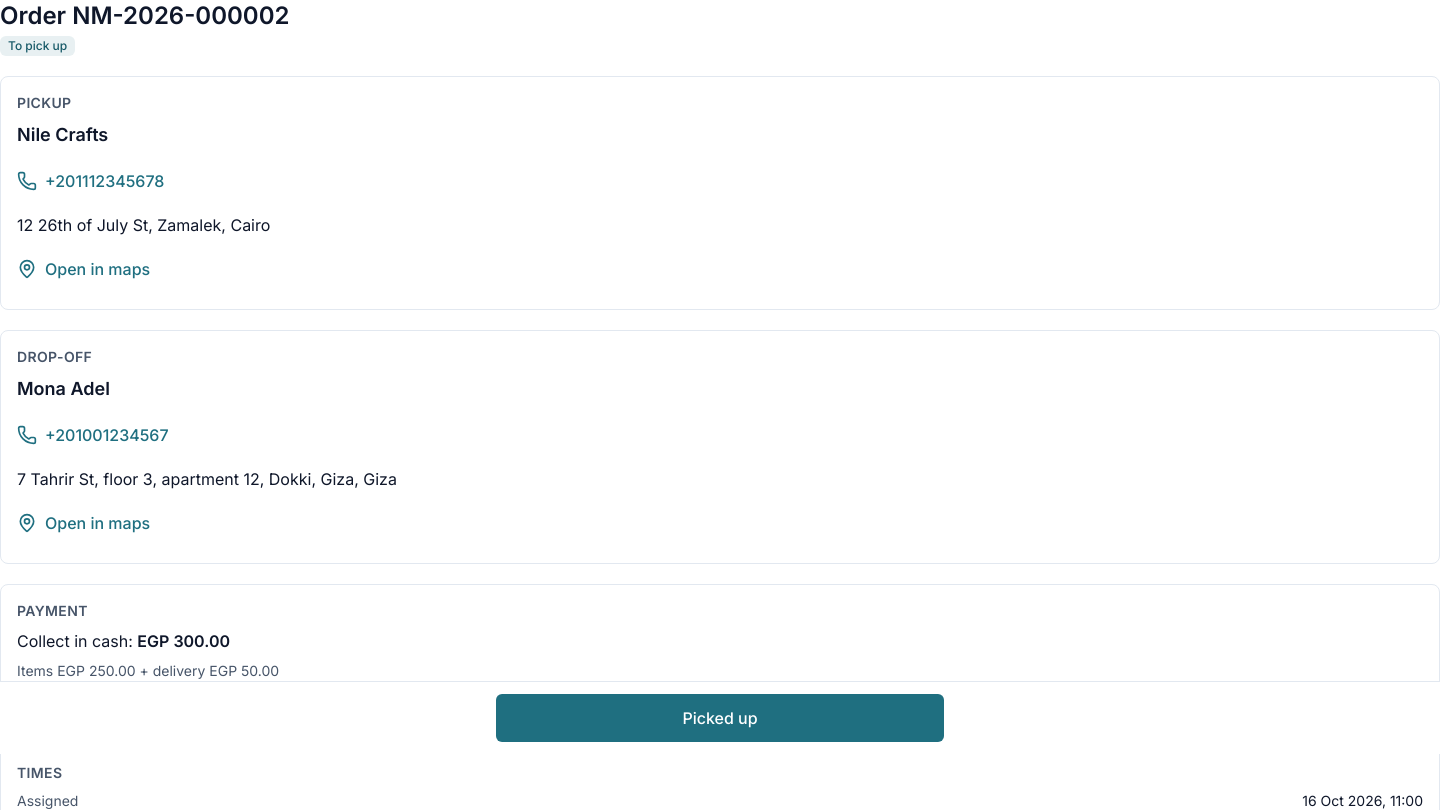
Test case: shipment (spec 04 AG-05) › assigned → "Picked up" (confirmed, no idempotency key) → the answer replaces the screen
Click the button "Picked up" at point(720, 718), box [496,694,944,742]
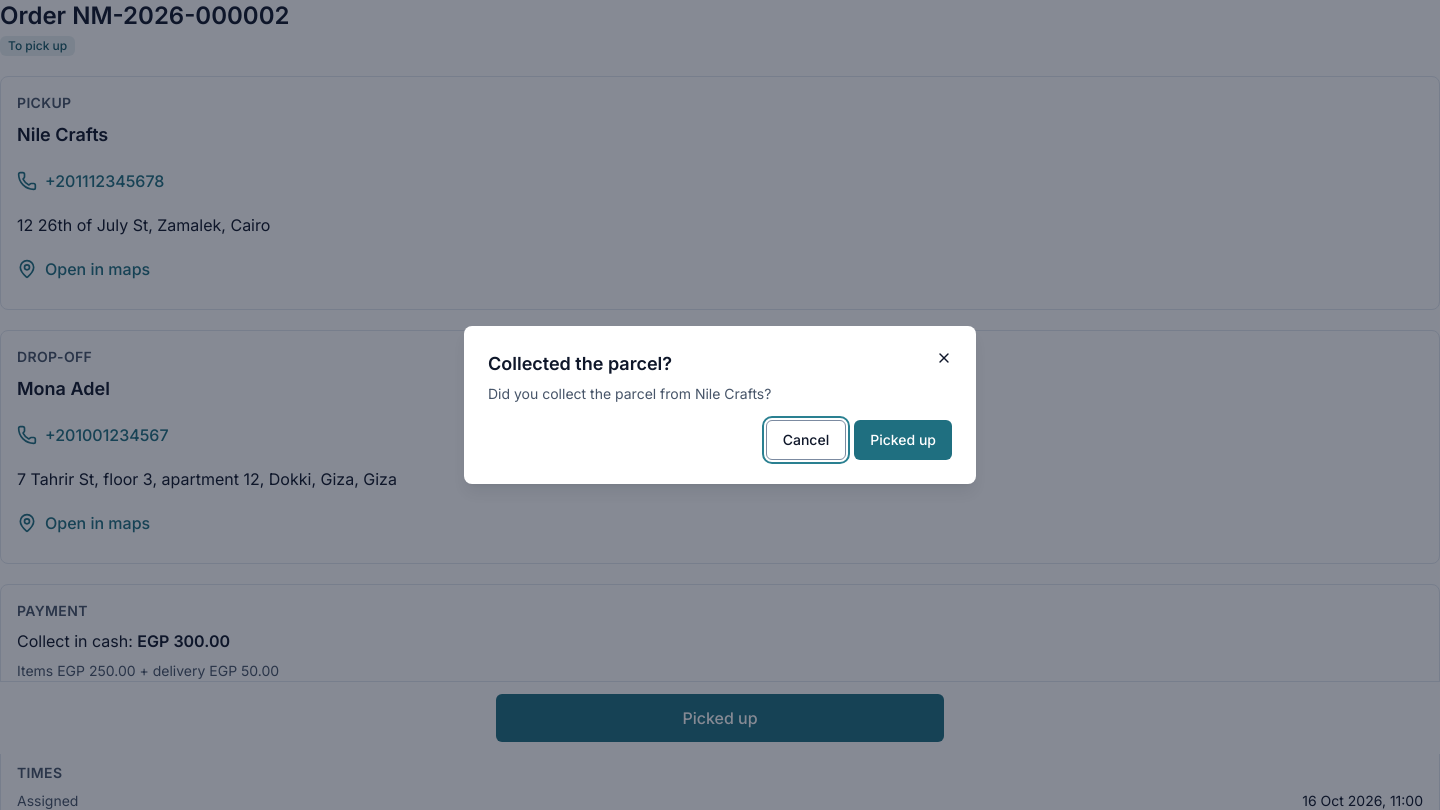
Check: the text "Did you collect the parcel from Nile Crafts?" is shown, box [488,385,771,402]
Click the button "Picked up" at point(903, 440), box [854,420,952,460]
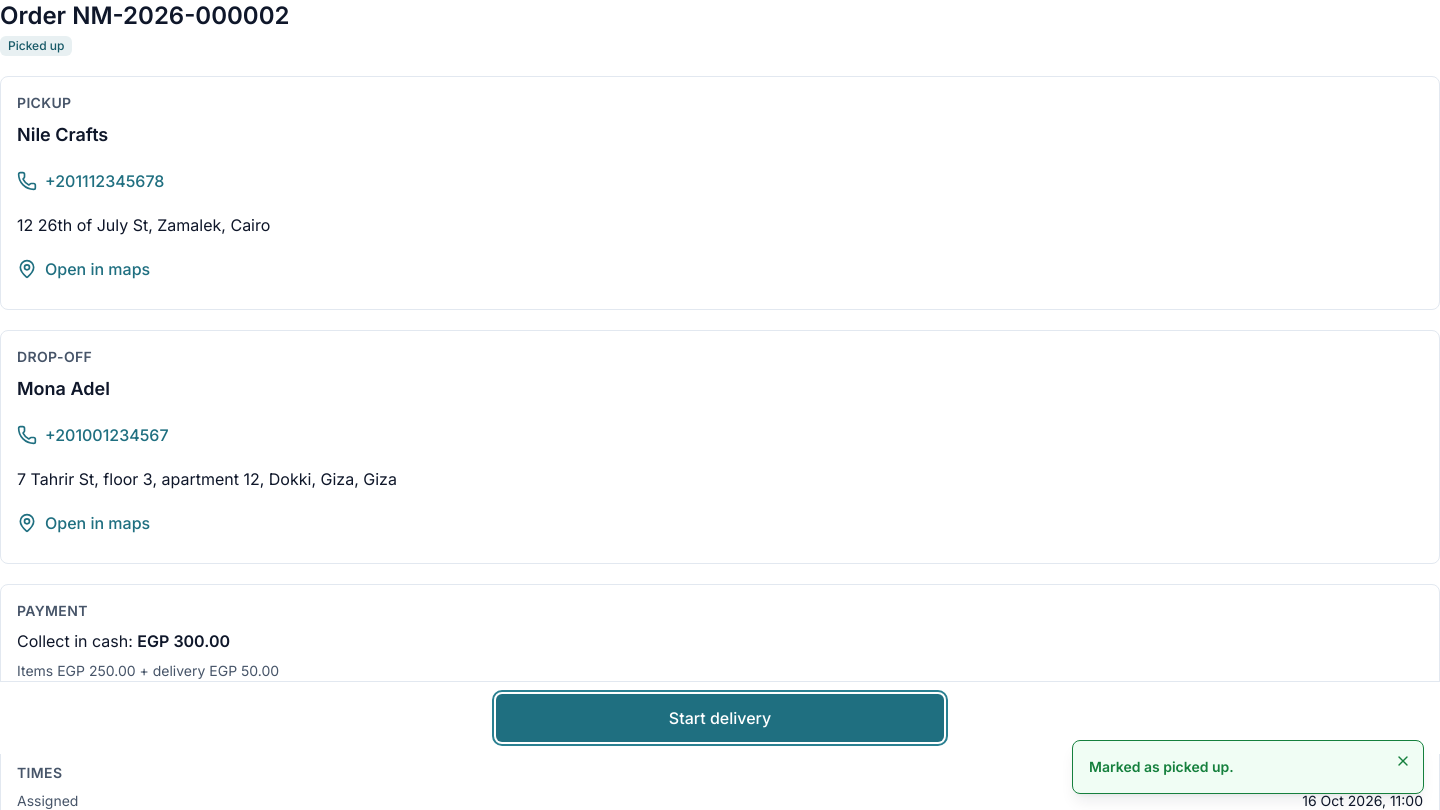
Check: the text "Marked as picked up." is shown, box [1089,758,1234,775]
Check: the button "Start delivery" is shown, box [496,694,944,742]
